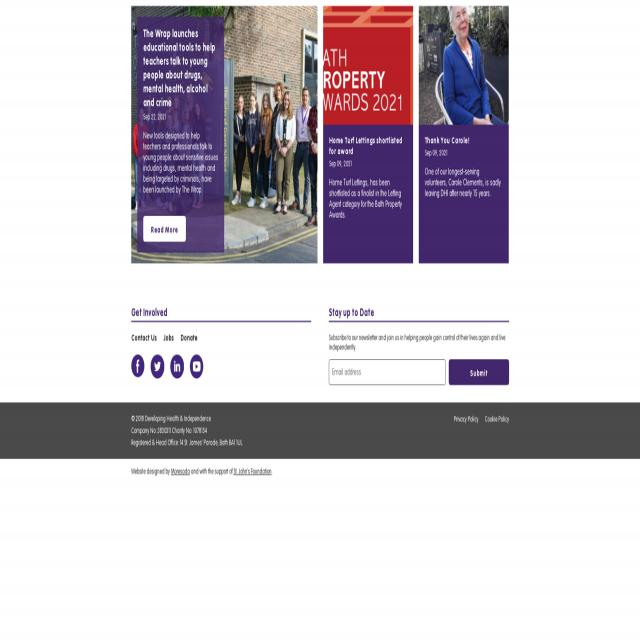button: (132, 5, 318, 264), (323, 6, 414, 265), (419, 6, 509, 264), (449, 359, 509, 385), (143, 215, 186, 242), (131, 354, 145, 380), (150, 354, 163, 380), (171, 354, 184, 380), (190, 354, 203, 380)
field: (329, 359, 446, 385)
